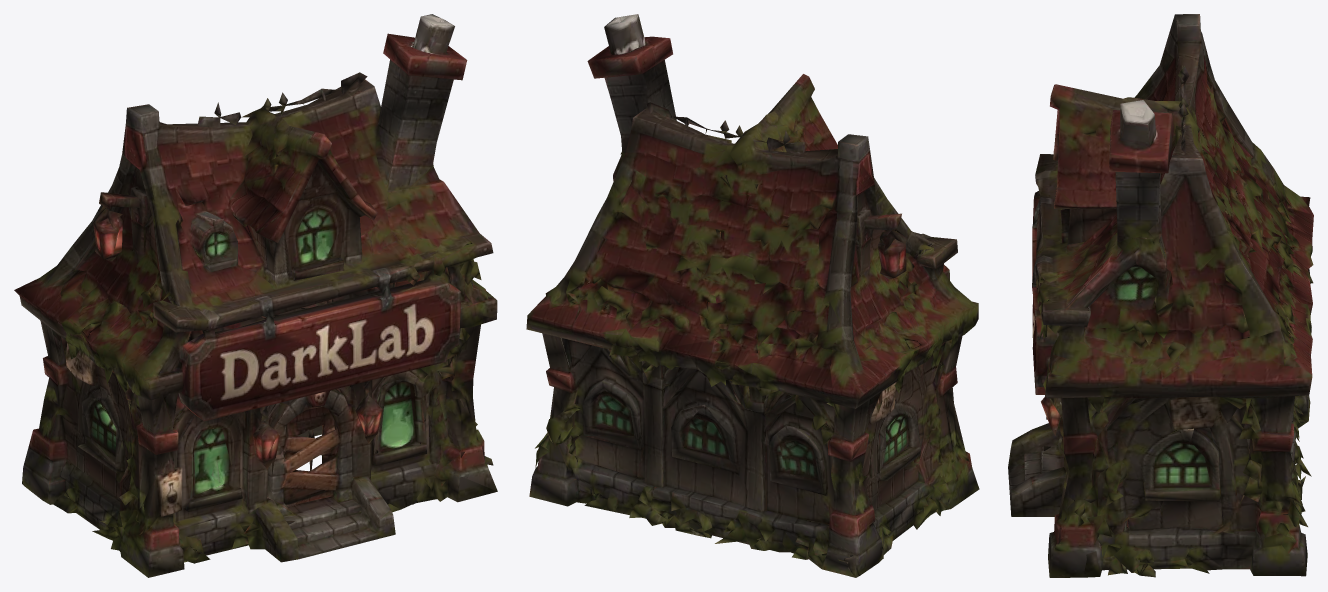
The model's file is project-darklab.glb.
The picture shows the model from 3 angles, left to right: view 1: azimuth 30°, elevation 25°; view 2: azimuth 150°, elevation 25°; view 3: azimuth 270°, elevation 25°; orthographic projection. The views are drawn at different scales.
Parts seen in each view (by area): view 1: Mesh1.0; view 2: Mesh1.0; view 3: Mesh1.0.
Part boxes in pixels (box(x1,y1,x2,y2)): Mesh1.0: box(14, 14, 497, 577); Mesh1.0: box(526, 14, 979, 577); Mesh1.0: box(1008, 14, 1313, 577).
Size of the model in its own units: 1.59 by 1.9 by 1.14.
1 material, 1 textured.
